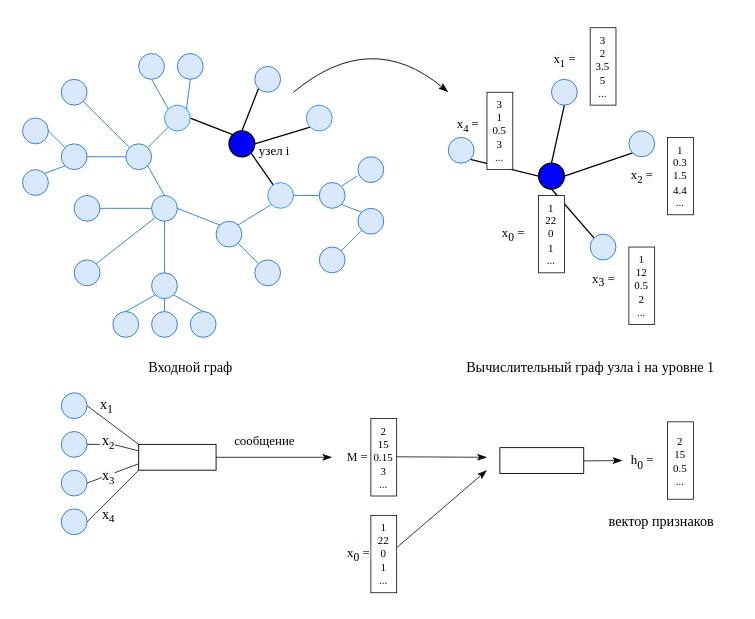
Image size: 755x619. Some labels were removed from this diagram. Each missing label, with the box of its shape:
Агрегация: (138, 443, 216, 470)
Обновление: (499, 447, 584, 473)
